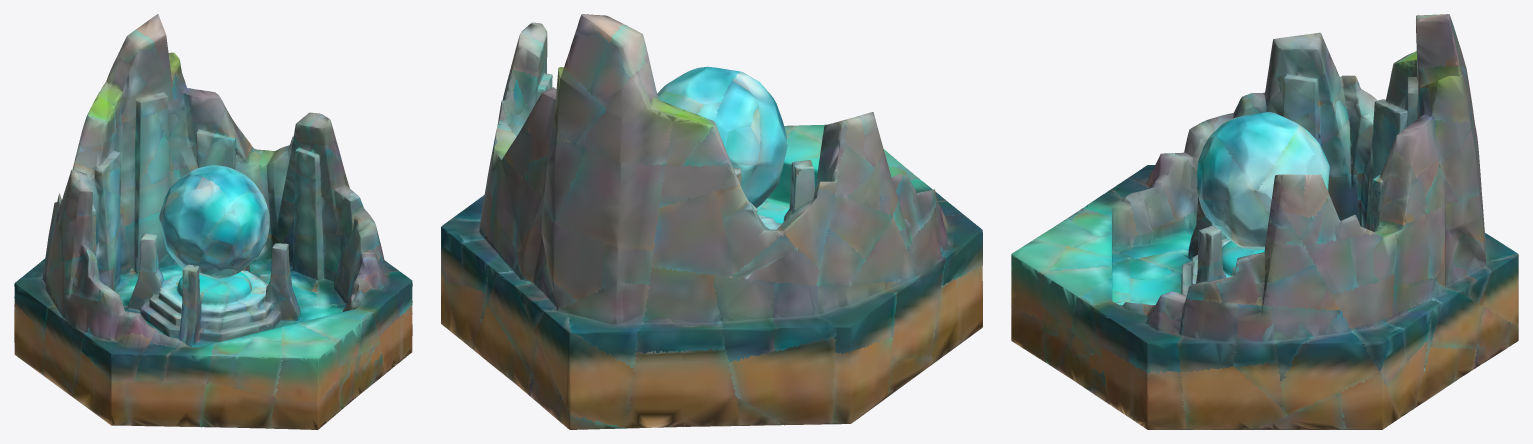
The model's file is watertile_lv5.glb.
The picture shows the model from 3 angles, left to right: view 1: azimuth 30°, elevation 25°; view 2: azimuth 150°, elevation 25°; view 3: azimuth 270°, elevation 25°; orthographic projection. The views are drawn at different scales.
Size of the model in its own units: 1.58 by 1.4 by 1.9.
1 material, 1 textured.
